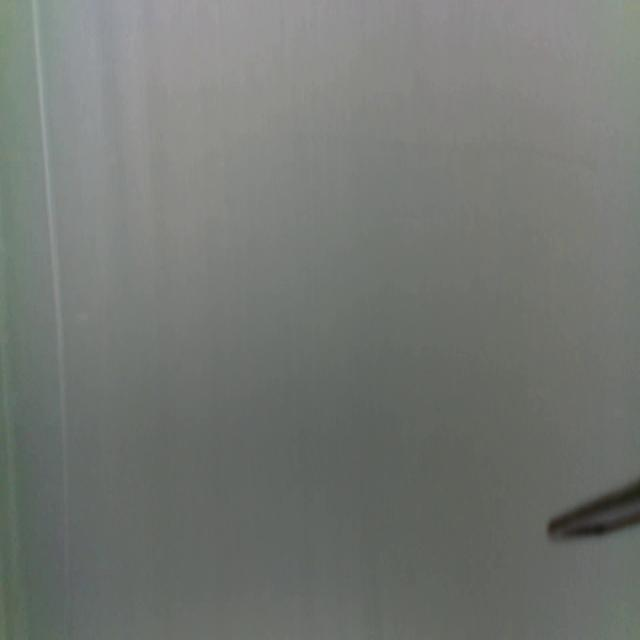crease: (32, 0, 72, 604)
